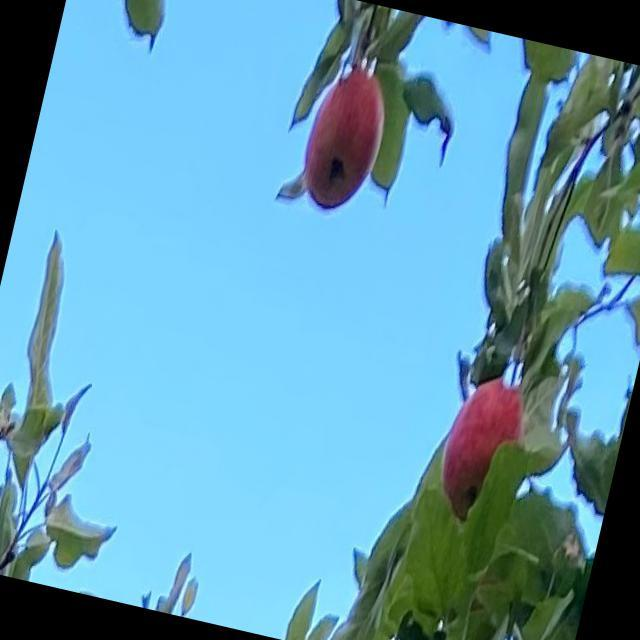100-_ripeness: (295, 62, 395, 216), (434, 376, 528, 528)
